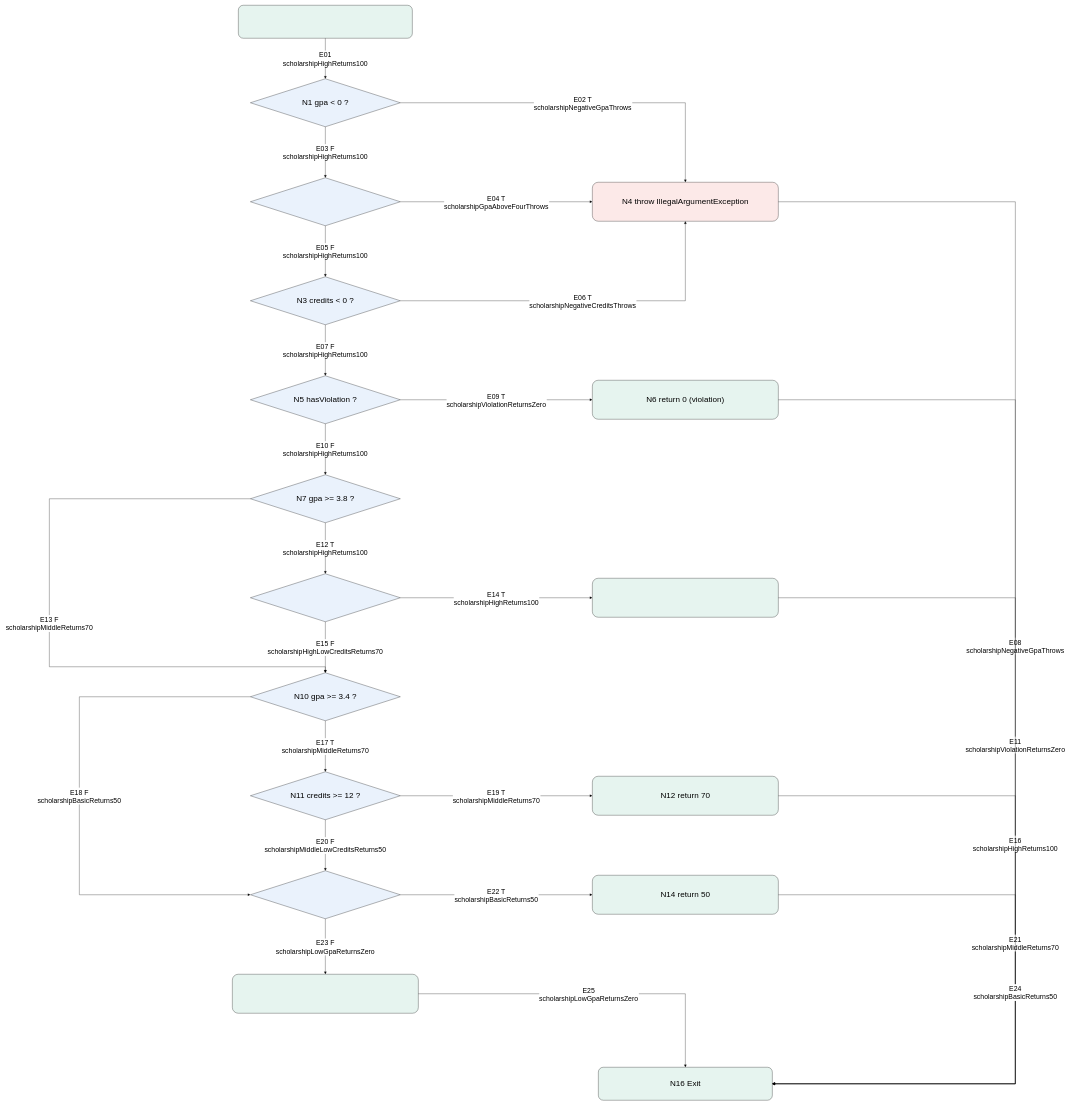
This 1070x1106 diagram has some shape labels left out. The shapes that lost their labels are listed below. From the top down, each one's centre as x and y in pixels, then its label:
the point at 325,21: N0 Entry
the point at 325,201: N2 gpa > 4 ?
the point at 325,597: N8 credits >= 15 ?
the point at 685,597: N9 return 100
the point at 325,894: N13 gpa >= 3.0 ?
the point at 325,993: N15 return 0 (low GPA)
